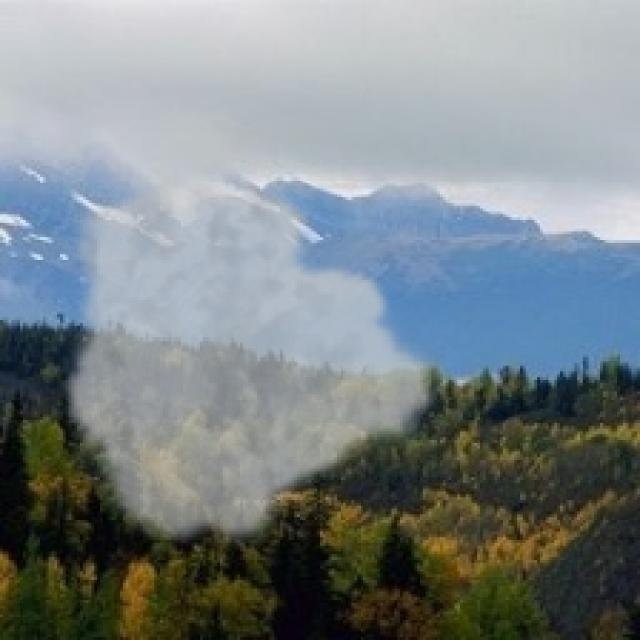Smoke: (60, 172, 443, 554)
